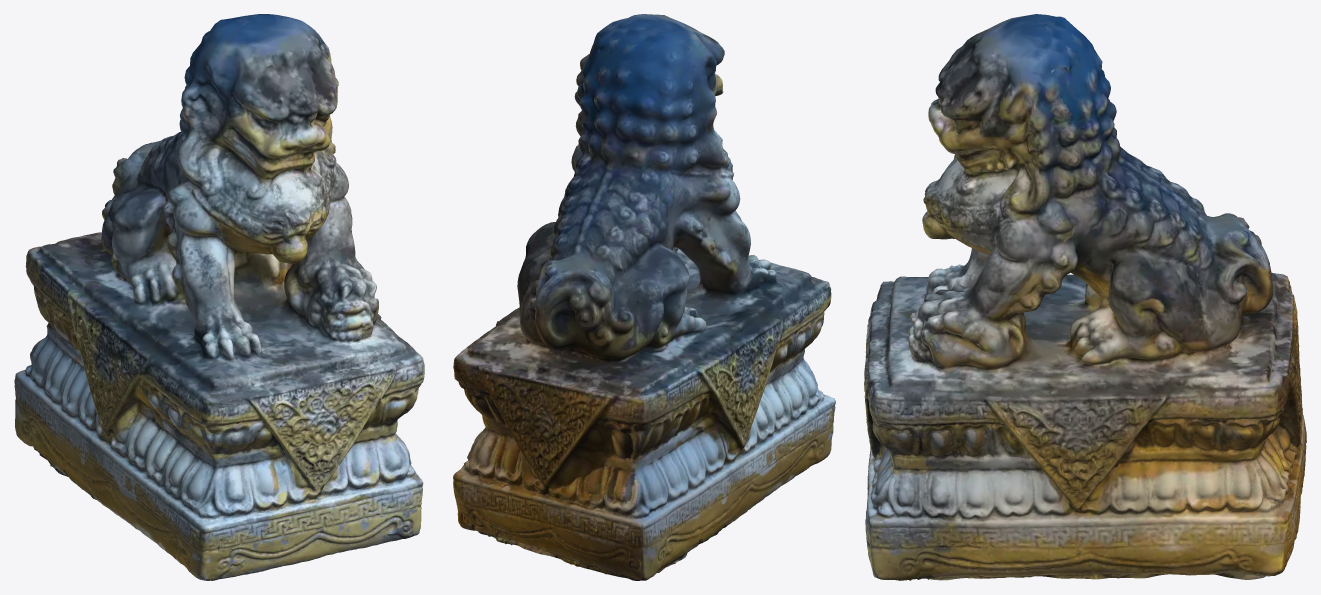
The model's file is photoscan-lion.glb.
3 views of the same model, side by side, from view 1: azimuth 30°, elevation 25°; view 2: azimuth 150°, elevation 25°; view 3: azimuth 270°, elevation 25° (orthographic). The views are drawn at different scales.
Visible parts, largest first — view 1: Weathered Stone Lion Statue - Photoscan; view 2: Weathered Stone Lion Statue - Photoscan; view 3: Weathered Stone Lion Statue - Photoscan.
Part boxes in pixels (x1=…): Weathered Stone Lion Statue - Photoscan: x1=14, y1=14, x2=424, y2=580; Weathered Stone Lion Statue - Photoscan: x1=453, y1=14, x2=835, y2=580; Weathered Stone Lion Statue - Photoscan: x1=864, y1=14, x2=1306, y2=580.
Size of the model in its own units: 0.4783 by 0.9329 by 0.728.
Materials: 1 (1 with a texture image).
